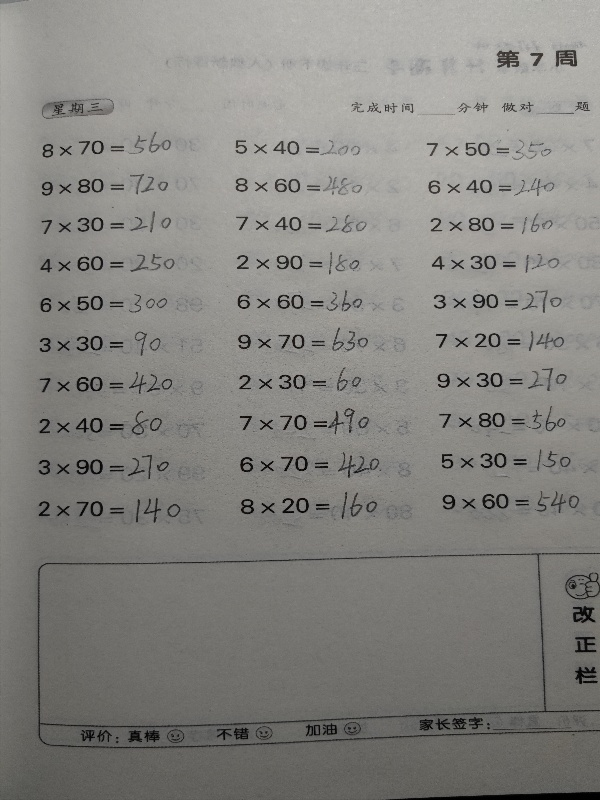equation: (35, 492, 187, 529), (238, 448, 392, 480), (35, 285, 177, 319), (238, 489, 387, 520), (437, 443, 579, 475), (34, 368, 189, 397), (33, 451, 176, 482), (232, 287, 369, 319), (233, 407, 379, 437), (32, 328, 170, 359), (234, 247, 366, 279), (429, 288, 565, 319), (37, 170, 182, 199), (32, 409, 170, 439), (236, 326, 374, 356), (432, 364, 571, 393), (428, 326, 567, 355), (36, 251, 184, 278), (37, 133, 174, 162), (439, 489, 586, 516), (424, 136, 555, 165), (39, 210, 179, 237), (232, 366, 370, 393), (427, 248, 562, 275), (232, 173, 366, 200), (436, 407, 570, 434), (232, 211, 371, 237), (426, 211, 556, 238), (424, 174, 559, 200), (232, 136, 365, 160)
